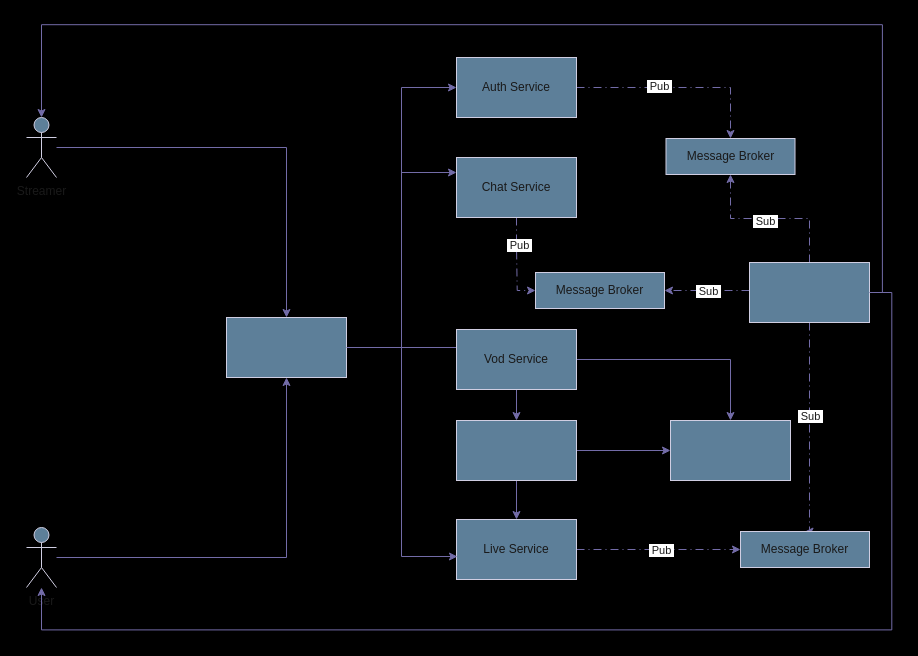
Some shapes in this 918 by 656 pixel diagram are drawn without their labels. Each missing label, with the centre of its shape:
Api Gateway: (x=286, y=347)
Encode Service: (x=516, y=450)
Notification Service: (x=809, y=292)
Storage Service: (x=730, y=450)
